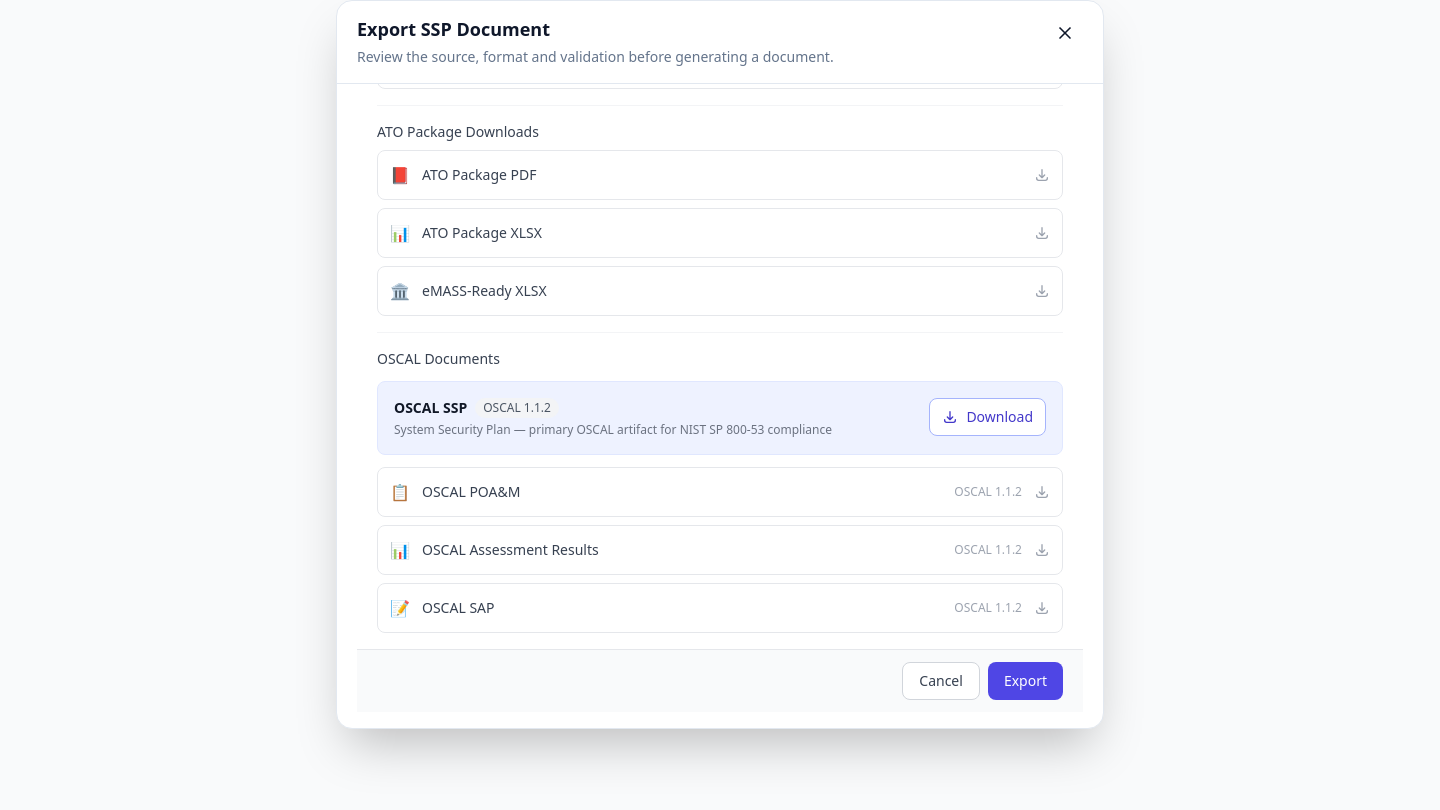
Test: cookie-session progress clients › completes DOCX/PDF export using the existing export detail status endpoint
(page scrolled)
Click the button "Export": (1025, 681) [988,662,1063,700]
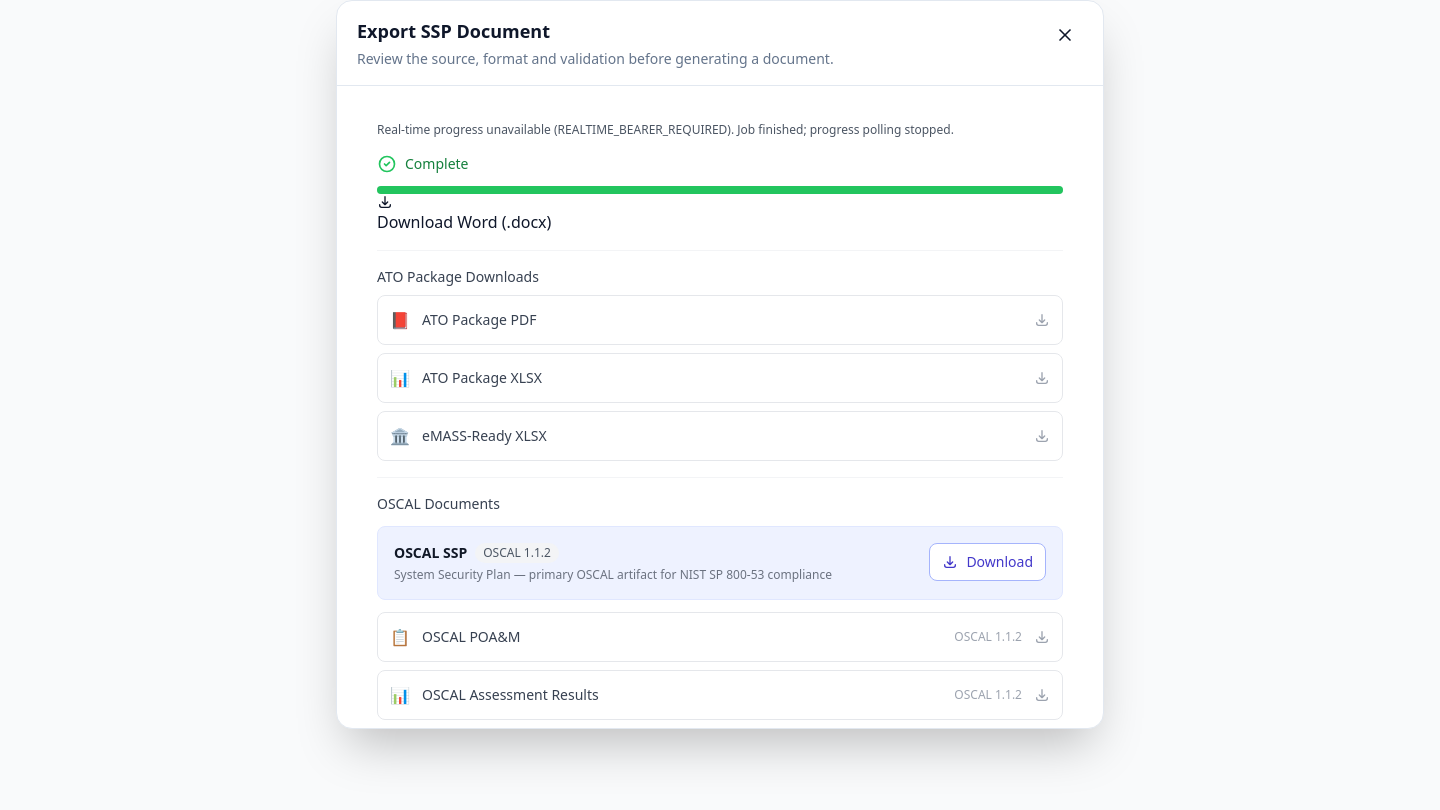
Expected: the link "Download Word (.docx)" is shown, [377,194,551,233]
